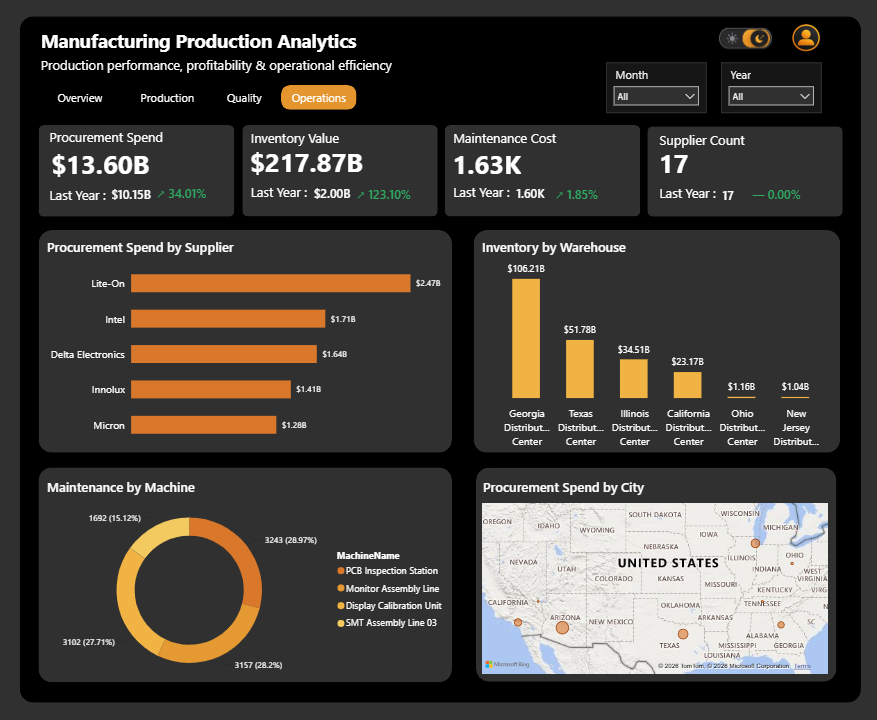

What the dashboard file says about the page in this screenshot:
{"tool":"powerbi","page":{"name":"Operations Analysis-Dark","canvas":[1280,1050],"ordinal":7},"visuals":[{"type":"shape","box":[0,0,1279.9,1050],"z":0},{"type":"shape","box":[34.1,29.8,1211.8,989],"z":1000},{"type":"textbox","box":[58.8,42.8,499.3,64.2],"z":2000},{"type":"textbox","box":[58.8,82,533.2,48.1],"z":3000},{"type":"cardVisual","fields":{"Data":["4 Operations & Supply Chain Measure.Procurement Spend"]},"box":[49.9,199.1,212.2,85.1],"z":3000,"group":"g4"},{"type":"shape","box":[60.2,187.2,282.1,132.3],"z":4000,"group":"g3"},{"type":"group","id":"g1","title":"Group 11","box":[627.7,187.2,299.4,132],"z":4000},{"type":"cardVisual","fields":{"Data":["4 Operations & Supply Chain Measure.Inventory Value"]},"box":[336.6,197.8,226.5,83.8],"z":4000,"group":"g6"},{"type":"cardVisual","fields":{"Data":["4 Operations & Supply Chain Measure.Maintenance Cost"]},"box":[627.7,202.3,200,79.8],"z":4000,"group":"g7"},{"type":"textbox","box":[950.6,190.8,238.8,41.2],"z":4500,"group":"g9"},{"type":"group","id":"g2","title":"Group 12","box":[925.5,189,294.2,130.2],"z":5000},{"type":"cardVisual","fields":{"Data":["4 Operations & Supply Chain Measure.Supplier Count"]},"box":[925.5,202,184.7,78.7],"z":5000,"group":"g9"},{"type":"textbox","box":[950.6,268.3,123.1,37.5],"z":5500,"group":"g9"},{"type":"shape","box":[410.2,130.2,108.8,35.7],"z":6000},{"type":"cardVisual","fields":{"Data":["4 Operations & Supply Chain Measure.Supplier Count YoY Display"]},"box":[1060,252,140.8,66.1],"z":6000,"group":"g9"},{"type":"cardVisual","fields":{"Data":["4 Operations & Supply Chain Measure.Supplier Count LY"]},"box":[1017.9,253.6,130.6,65.6],"z":6500,"group":"g9"},{"type":"shape","title":"Executive ","box":[62.4,123,115.9,48.1],"z":7000},{"type":"shape","box":[354.6,187.2,281.8,132],"z":7000,"group":"g5"},{"type":"shape","box":[645.3,187.2,281.8,132],"z":7000,"group":"g1"},{"type":"shape","title":"Executive ","box":[181.9,123,130.2,48.1],"z":8000},{"type":"shape","box":[938,189,281.8,130.2],"z":8000,"group":"g2"},{"type":"shape","title":"Executive ","box":[294.2,123,128.4,48.1],"z":9000},{"type":"group","id":"g3","title":"Group 10","box":[49.9,187.2,298,133.7],"z":10000},{"type":"cardVisual","fields":{"Data":["4 Operations & Supply Chain Measure.Procurement Spend LY"]},"box":[136.2,252.3,136,68.7],"z":10000,"group":"g4"},{"type":"cardVisual","fields":{"Data":["2 Production Measures.Production Cost LY"]},"box":[428.2,252.4,143.2,65.7],"z":11000,"group":"g6"},{"type":"cardVisual","fields":{"Data":["4 Operations & Supply Chain Measure.Maintenance Cost LY"]},"box":[718.9,252.4,143.2,65.7],"z":11000,"group":"g7"},{"type":"shape","box":[60.6,338.8,595.6,321],"z":11000},{"type":"group","id":"g4","title":"Group 1","box":[49.9,187.2,298,133.7],"z":12000,"group":"g3"},{"type":"group","id":"g5","title":"Group 11","box":[336.6,187.2,300,132],"z":12000},{"type":"cardVisual","fields":{"Data":["4 Operations & Supply Chain Measure.Procurement Spend YoY Display"]},"box":[202,251,145.9,69.8],"z":13000,"group":"g4"},{"type":"barChart","fields":{"Category":["Dim_Supplier.SupplierName"],"Y":["4 Operations & Supply Chain Measure.Procurement Spend"]},"box":[64.2,369.1,581.4,290.7],"z":13000},{"type":"group","id":"g6","title":"Group 3","box":[336.6,189,300,130.2],"z":14000,"group":"g5"},{"type":"group","id":"g7","title":"Group 3","box":[627.7,189,294.5,129.7],"z":14000,"group":"g1"},{"type":"cardVisual","fields":{"Data":["4 Operations & Supply Chain Measure.Maintenance Cost YoY Display"]},"box":[775,251.9,147.3,66.8],"z":14000,"group":"g7"},{"type":"cardVisual","fields":{"Data":["4 Operations & Supply Chain Measure.Inventory Value YoY Display"]},"box":[489.3,252.4,147.3,66.8],"z":14000,"group":"g6"},{"type":"shape","box":[688.4,338.8,528.1,321],"z":14000},{"type":"clusteredColumnChart","fields":{"Category":["Dim_Warehouse.WarehouseName"],"Y":["4 Operations & Supply Chain Measure.Inventory Value"]},"box":[688.4,369.1,522.5,290.7],"z":15000},{"type":"shape","box":[60.6,681.2,595.6,309.4],"z":16000,"group":"g8"},{"type":"shape","box":[691.7,681.2,519.2,308.5],"z":16000},{"type":"donutChart","fields":{"Category":["Dim_Machine.MachineName"],"Y":["CountNonNull(Fact_Maintenance.MaintenanceType)"]},"box":[60.6,711.3,595.6,292.7],"z":17000,"group":"g8"},{"type":"map","fields":{"Category":["Dim_Plant.City"],"Size":["4 Operations & Supply Chain Measure.Procurement Spend"]},"box":[695.5,727,509,256],"z":17000},{"type":"textbox","box":[71.9,187.2,228.3,43.5],"z":18000,"group":"g4"},{"type":"textbox","box":[68.8,346,308.6,45.1],"z":18000},{"type":"textbox","box":[695.5,346,349.5,44.6],"z":19000},{"type":"textbox","box":[72,269.2,117.7,39.6],"z":20000,"group":"g4"},{"type":"textbox","box":[691.7,691.2,317.2,41.7],"z":20000},{"type":"group","id":"g8","title":"Group 5","box":[60.6,681.2,595.6,322.8],"z":21000},{"type":"shape","title":"Executive ","box":[410.2,123,108.8,48.1],"z":22000},{"type":"textbox","box":[68.2,691.2,359.3,41.8],"z":22000,"group":"g8"},{"type":"image","box":[990,18,178,90],"z":23000},{"type":"image","box":[1125,34,83,57],"z":24000},{"type":"slicer","fields":{"Values":["Dim_Date.Year"]},"box":[1045,98.1,144.4,73.1],"z":25000},{"type":"slicer","fields":{"Values":["Dim_Date.MonthShort"]},"box":[879.2,98.1,144.4,73.1],"z":26000},{"type":"actionButton","box":[1041,42,36,39.2],"z":27000},{"type":"textbox","box":[362.6,189,236.5,41.7],"z":27000,"group":"g6"},{"type":"textbox","box":[653.3,189,236.5,41.7],"z":27000,"group":"g7"},{"type":"group","id":"g9","title":"Group 2","box":[925.5,190.8,275.3,128.4],"z":27500,"group":"g2"},{"type":"textbox","box":[361.9,267.3,122,37.9],"z":28000,"group":"g6"},{"type":"textbox","box":[652.6,267.3,122,37.9],"z":28000,"group":"g7"}]}

Visuals, with their boxes in screenshot pixels (x1, y1, x2, y2), scaled from the page's 1280x1050 canvas onto the 877x720 screenshot:
shape: crop(0, 0, 876, 719)
shape: crop(23, 20, 854, 699)
textbox: crop(40, 29, 382, 73)
textbox: crop(40, 56, 406, 89)
cardVisual - 4 Operations & Supply Chain Measure.Procurement Spend: crop(34, 137, 180, 195)
shape: crop(41, 128, 235, 219)
"Group 11" group: crop(430, 128, 635, 219)
cardVisual - 4 Operations & Supply Chain Measure.Inventory Value: crop(231, 136, 386, 193)
cardVisual - 4 Operations & Supply Chain Measure.Maintenance Cost: crop(430, 139, 567, 193)
textbox: crop(651, 131, 815, 159)
"Group 12" group: crop(634, 130, 836, 219)
cardVisual - 4 Operations & Supply Chain Measure.Supplier Count: crop(634, 139, 761, 192)
textbox: crop(651, 184, 736, 210)
shape: crop(281, 89, 356, 114)
cardVisual - 4 Operations & Supply Chain Measure.Supplier Count YoY Display: crop(726, 173, 823, 218)
cardVisual - 4 Operations & Supply Chain Measure.Supplier Count LY: crop(697, 174, 787, 219)
"Executive " shape: crop(43, 84, 122, 117)
shape: crop(243, 128, 436, 219)
shape: crop(442, 128, 635, 219)
"Executive " shape: crop(125, 84, 214, 117)
shape: crop(643, 130, 836, 219)
"Executive " shape: crop(202, 84, 290, 117)
"Group 10" group: crop(34, 128, 238, 220)
cardVisual - 4 Operations & Supply Chain Measure.Procurement Spend LY: crop(93, 173, 186, 220)
cardVisual - 2 Production Measures.Production Cost LY: crop(293, 173, 391, 218)
cardVisual - 4 Operations & Supply Chain Measure.Maintenance Cost LY: crop(493, 173, 591, 218)
shape: crop(42, 232, 450, 452)
"Group 1" group: crop(34, 128, 238, 220)
"Group 11" group: crop(231, 128, 436, 219)
cardVisual - 4 Operations & Supply Chain Measure.Procurement Spend YoY Display: crop(138, 172, 238, 220)
barChart - Dim_Supplier.SupplierName x 4 Operations & Supply Chain Measure.Procurement Spend: crop(44, 253, 442, 452)
"Group 3" group: crop(231, 130, 436, 219)
"Group 3" group: crop(430, 130, 632, 219)
cardVisual - 4 Operations & Supply Chain Measure.Maintenance Cost YoY Display: crop(531, 173, 632, 219)
cardVisual - 4 Operations & Supply Chain Measure.Inventory Value YoY Display: crop(335, 173, 436, 219)
shape: crop(472, 232, 833, 452)
clusteredColumnChart - Dim_Warehouse.WarehouseName x 4 Operations & Supply Chain Measure.Inventory Value: crop(472, 253, 830, 452)
shape: crop(42, 467, 450, 679)
shape: crop(474, 467, 830, 679)
donutChart - Dim_Machine.MachineName x CountNonNull(Fact_Maintenance.MaintenanceType): crop(42, 488, 450, 688)
map - Dim_Plant.City x 4 Operations & Supply Chain Measure.Procurement Spend: crop(477, 499, 825, 674)
textbox: crop(49, 128, 206, 158)
textbox: crop(47, 237, 259, 268)
textbox: crop(477, 237, 716, 268)
textbox: crop(49, 185, 130, 212)
textbox: crop(474, 474, 691, 503)
"Group 5" group: crop(42, 467, 450, 688)
"Executive " shape: crop(281, 84, 356, 117)
textbox: crop(47, 474, 293, 503)
image: crop(678, 12, 800, 74)
image: crop(771, 23, 828, 62)
slicer - Dim_Date.Year: crop(716, 67, 815, 117)
slicer - Dim_Date.MonthShort: crop(602, 67, 701, 117)
actionButton: crop(713, 29, 738, 56)
textbox: crop(248, 130, 410, 158)
textbox: crop(448, 130, 610, 158)
"Group 2" group: crop(634, 131, 823, 219)
textbox: crop(248, 183, 332, 209)
textbox: crop(447, 183, 531, 209)
